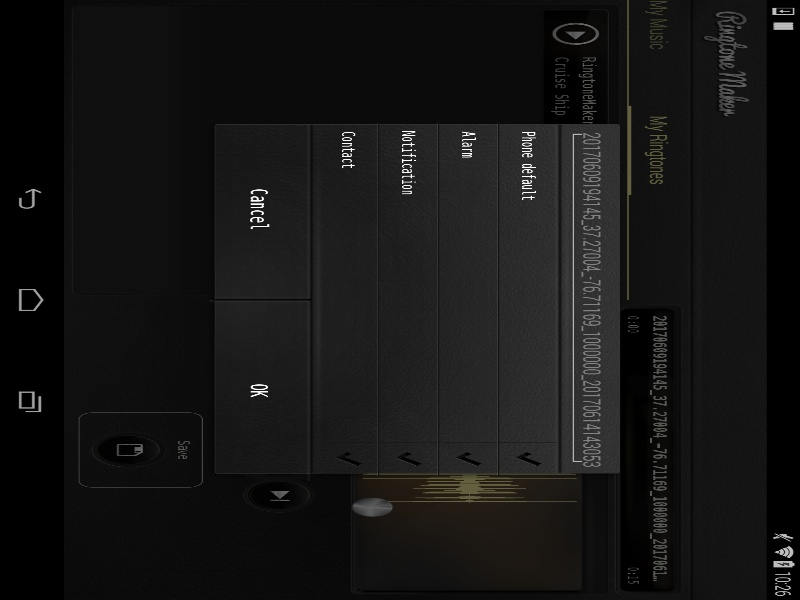Button: (253, 229, 640, 278)
